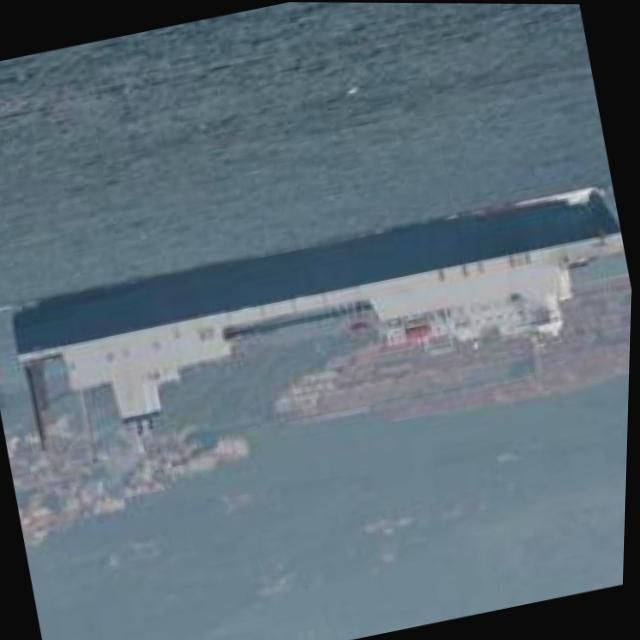ship2: (14, 187, 626, 467)
